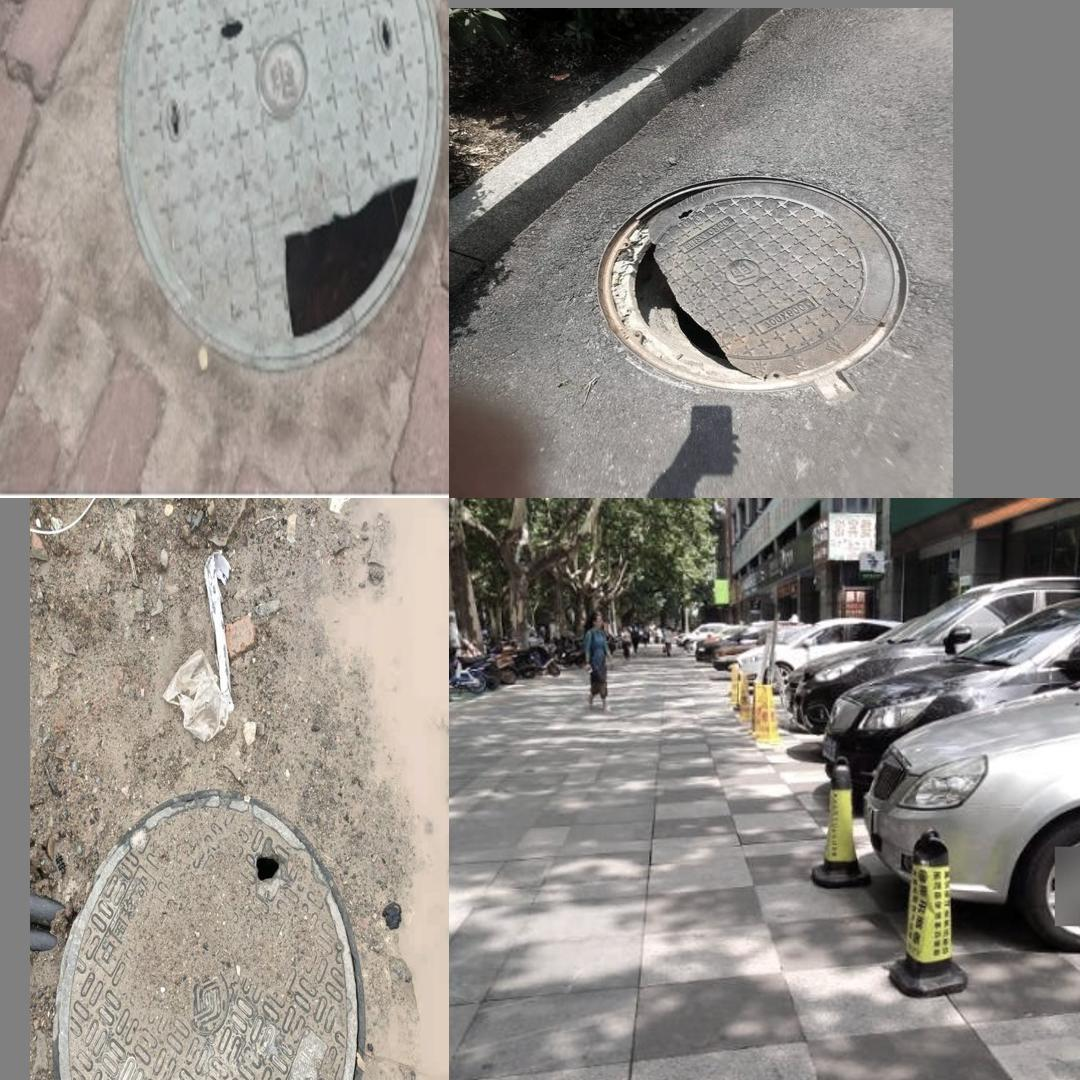broke: (123, 0, 425, 349), (51, 789, 363, 1080), (588, 162, 915, 401)
